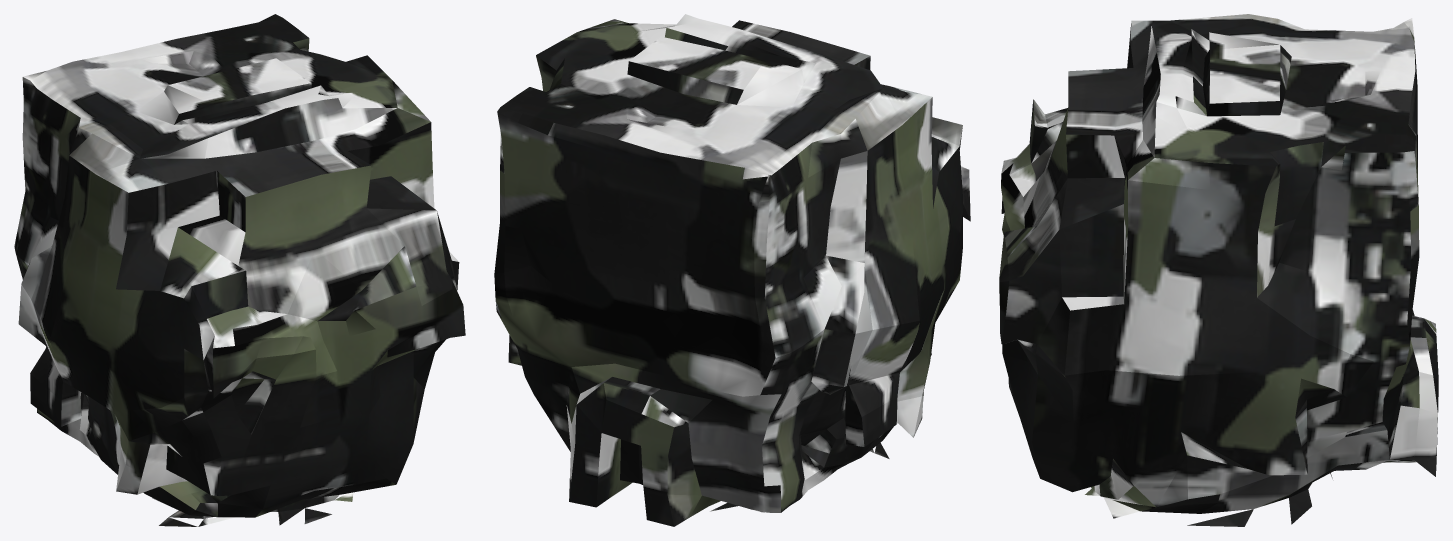
Rendered from soldier_1_head.obj.
The picture shows the model from 3 angles, left to right: view 1: azimuth 30°, elevation 25°; view 2: azimuth 150°, elevation 25°; view 3: azimuth 270°, elevation 25°; orthographic projection. The views are drawn at different scales.
Visible parts, largest first — view 1: soldier_1_head; view 2: soldier_1_head; view 3: soldier_1_head.
Part boxes in pixels (box(x1,y1,x2,y2)): soldier_1_head: box(14, 14, 465, 526); soldier_1_head: box(494, 14, 970, 526); soldier_1_head: box(999, 14, 1438, 526).
Bounding box in the file's own units: 0.3359 × 0.3397 × 0.3245.
